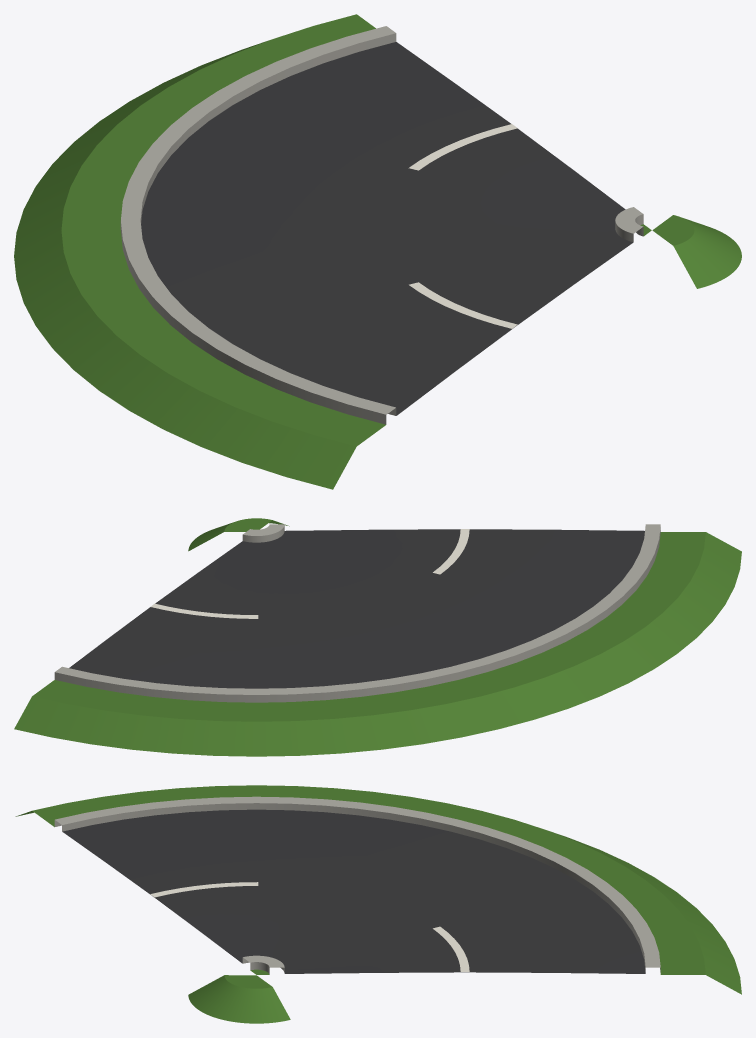
The model's file is road_bend_60_center.glb.
The picture shows the model from 3 angles, top to bottom: view 1: azimuth 30°, elevation 25°; view 2: azimuth 150°, elevation 25°; view 3: azimuth 270°, elevation 25°; orthographic projection. The views are drawn at different scales.
Visible parts, largest first — view 1: road_bend_60_center_lod0; view 2: road_bend_60_center_lod0; view 3: road_bend_60_center_lod0.
Boxes of the visible parts, x1,y1,x2,y2 form: road_bend_60_center_lod0: [14, 14, 741, 489]; road_bend_60_center_lod0: [14, 518, 741, 756]; road_bend_60_center_lod0: [15, 785, 741, 1023].
Size of what is drawn, in the model's own units: 9.2 by 0.5 by 12.1.
